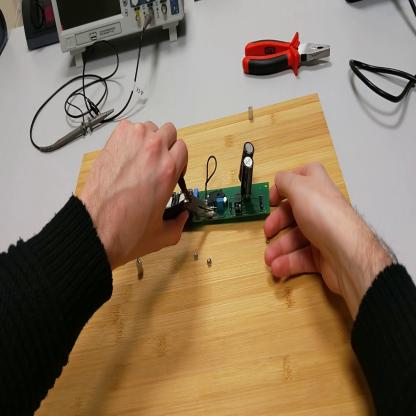hand: (86, 121, 191, 268), (264, 160, 356, 308)
high voltage board: (167, 143, 271, 226)
oscilloscope: (55, 1, 186, 72)
pliers: (245, 29, 333, 87), (167, 166, 210, 227)
socket: (21, 2, 61, 53), (1, 5, 11, 55)
working area: (39, 94, 377, 415)
